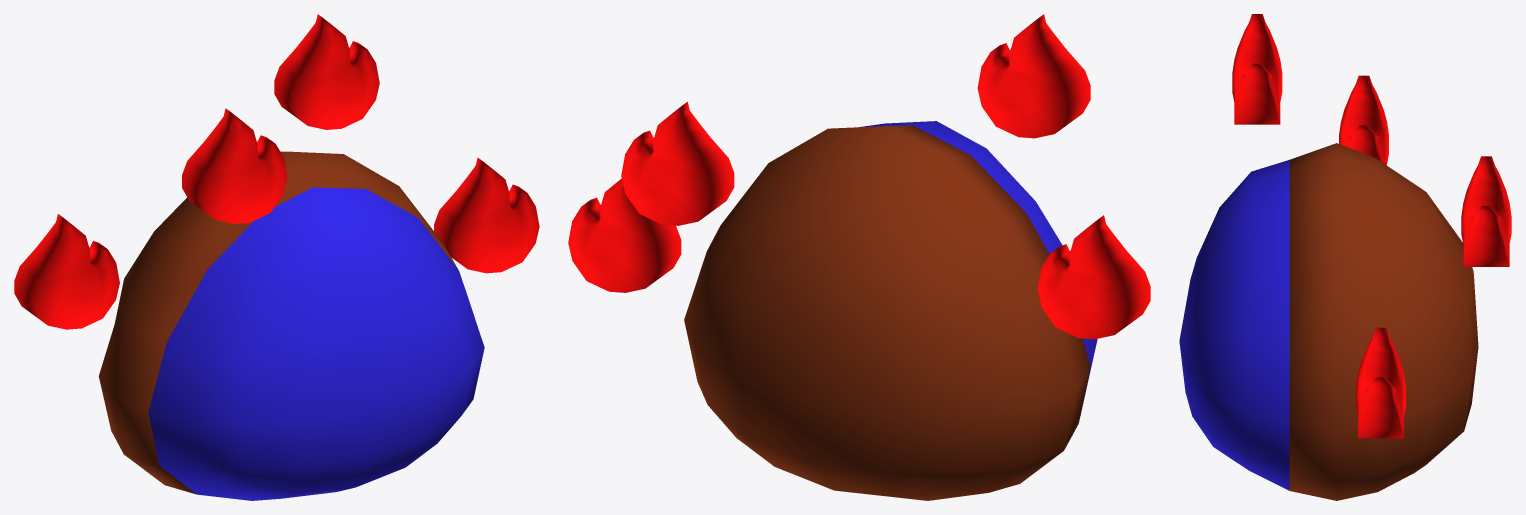
Rendered from unit_fire.fbx.
3 renders of one model, left to right at view 1: azimuth 30°, elevation 25°; view 2: azimuth 150°, elevation 25°; view 3: azimuth 270°, elevation 25°, orthographic. The views are drawn at different scales.
Parts seen in each view (by area): view 1: Object006, Object002, Object004, Object005, Object003; view 2: Object006, Object002, Object005, Object004, Object003; view 3: Object006, Object005, Object002, Object003, Object004.
Part boxes in pixels (x1,y1,x2,y2): Object006: [98, 151, 484, 500]; Object002: [274, 14, 379, 129]; Object004: [14, 214, 119, 329]; Object005: [182, 108, 287, 223]; Object003: [434, 158, 539, 273]; Object006: [684, 121, 1097, 500]; Object002: [621, 102, 734, 225]; Object005: [977, 14, 1090, 138]; Object004: [1037, 215, 1150, 339]; Object003: [568, 178, 681, 292]; Object006: [1179, 143, 1478, 500]; Object005: [1232, 14, 1282, 124]; Object002: [1461, 156, 1511, 266]; Object003: [1356, 327, 1405, 438]; Object004: [1339, 75, 1388, 165].
Size of the model in its own units: 39.8 by 31.69 by 23.4.
